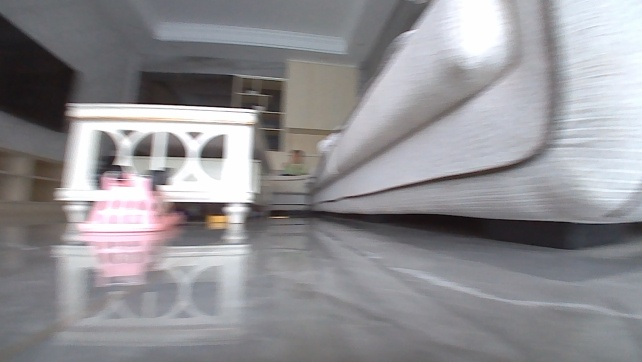TV_stand1: (0, 145, 62, 200)
sofa1: (259, 0, 641, 251)
tea_table1: (49, 100, 273, 226)
